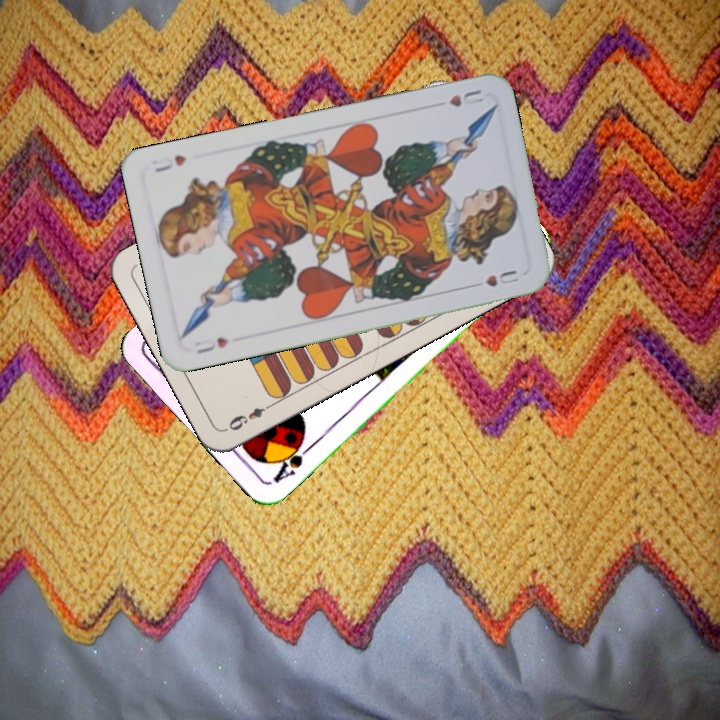E9: (222, 399, 276, 434)
HU: (445, 85, 486, 110), (193, 333, 232, 357)
SA: (268, 434, 316, 486)
